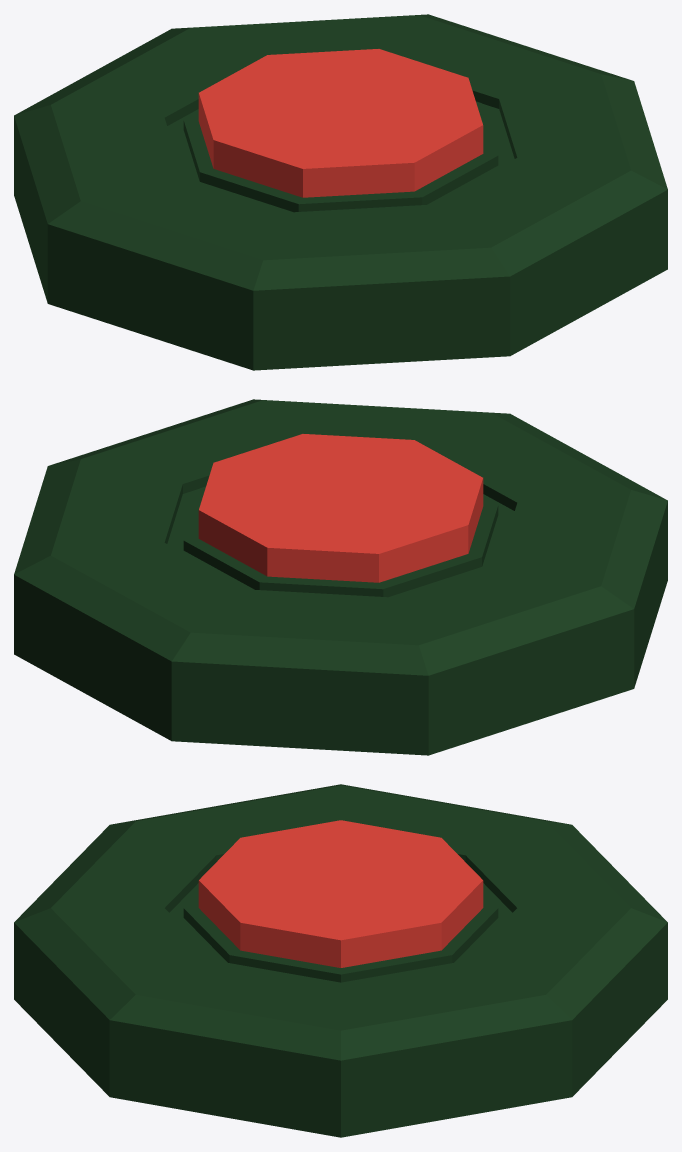
Rendered from mine_LowPoly.fbx.
3 views of the same model, one above another, from view 1: azimuth 30°, elevation 25°; view 2: azimuth 150°, elevation 25°; view 3: azimuth 270°, elevation 25° (orthographic). The views are drawn at different scales.
Parts seen in each view (by area): view 1: Цилиндр; view 2: Цилиндр; view 3: Цилиндр.
Part boxes in pixels (bbox=[...]): Цилиндр: bbox=[14, 14, 667, 370]; Цилиндр: bbox=[14, 399, 667, 755]; Цилиндр: bbox=[14, 784, 667, 1137].
Size of the model in its own units: 200 by 40.25 by 200.
